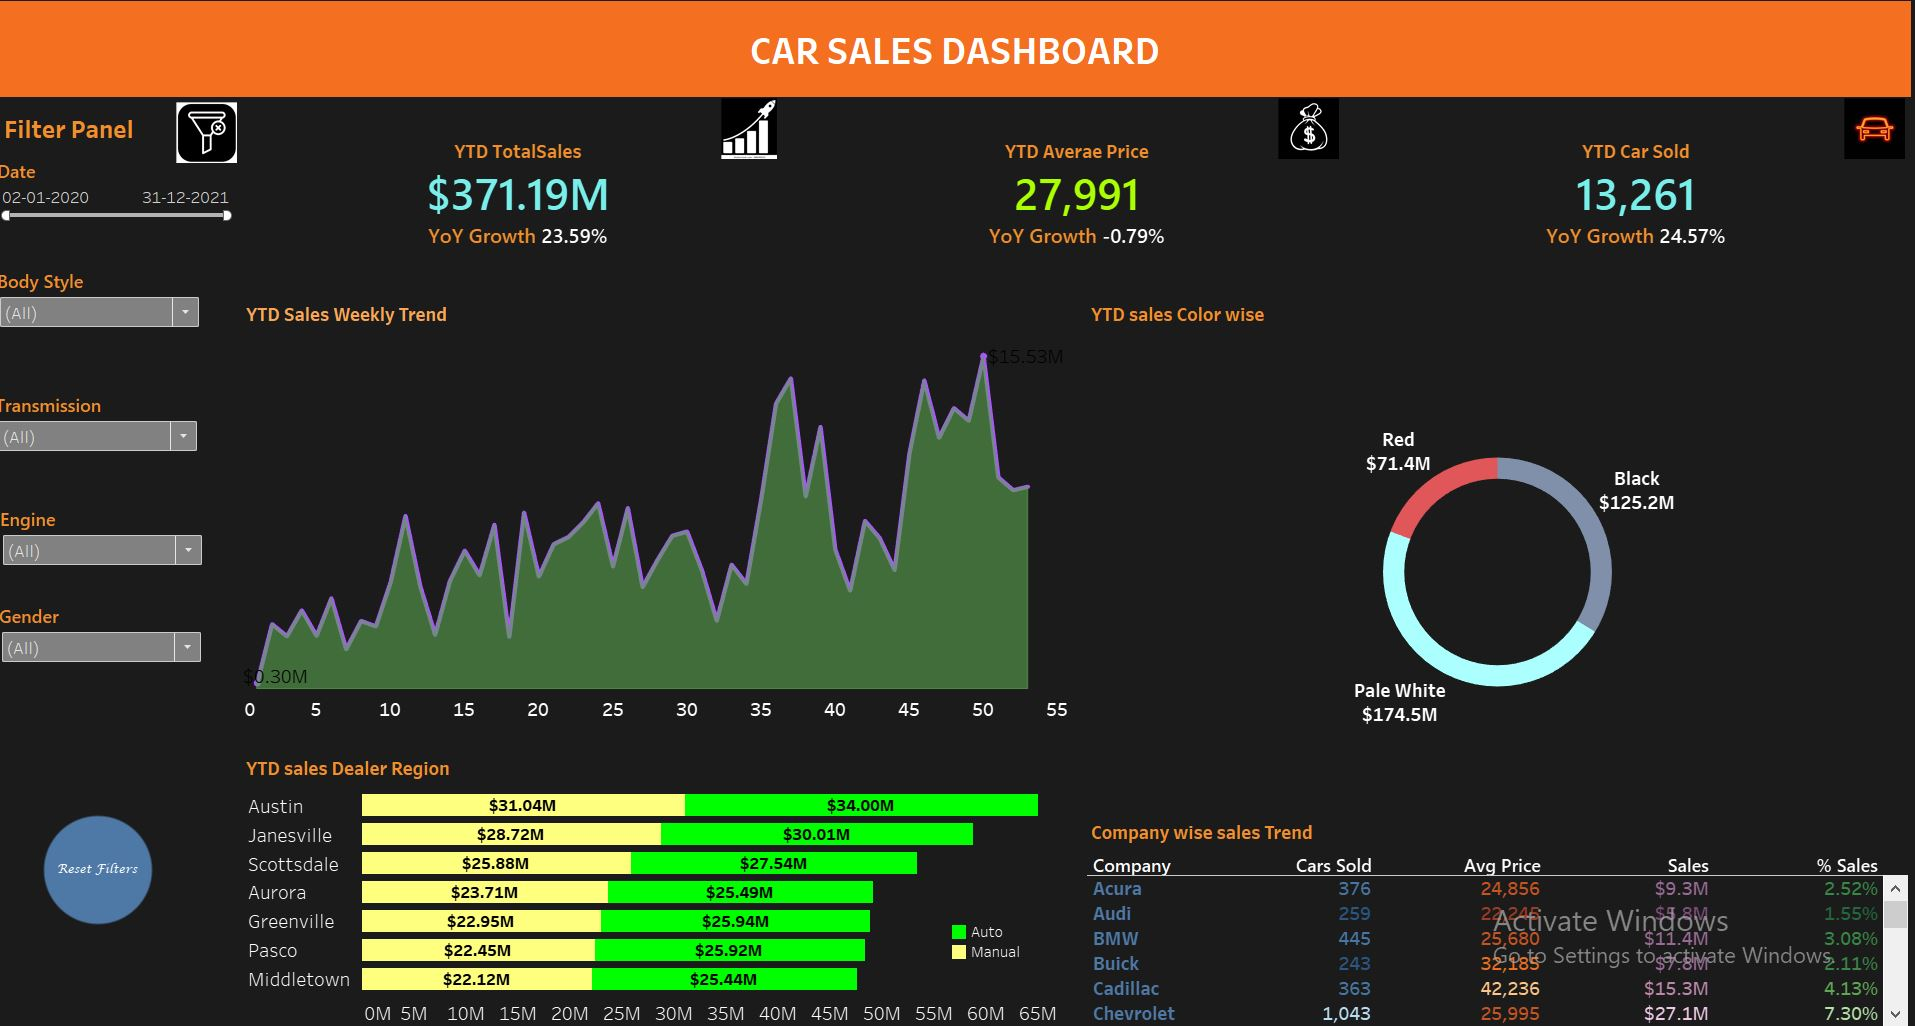

What the dashboard file says about the page in this screenshot:
{"tool":"tableau","page":{"name":"Dashboard 1","canvas":[1000,1000],"units":"permille","ordinal":0},"visuals":[{"type":"text","box":[0,0,1000,100]},{"type":"text","box":[2.5,97.8,106.6,58.7]},{"type":"image","param":"Image/sales.png","box":[374.1,97.8,38,58.7]},{"type":"image","param":"Image/dolloar.png","box":[665.2,97.8,38,58.7]},{"type":"image","param":"Image/cars.jfif","box":[960.1,97.8,38,58.7]},{"type":"image","param":"Image/clear filter.png","box":[91,101.5,38,58.7]},{"type":"worksheet","title":"YTD Total Sales","mark":"Automatic","box":[126.6,102.7,291.2,174.8]},{"type":"worksheet","title":"YTD Average Price","mark":"Automatic","box":[417.7,102.7,291.1,174.8]},{"type":"worksheet","title":"YTD Car Sold","mark":"Automatic","box":[708.9,102.7,291.2,174.8]},{"type":"filter","title":"YTD Sales Weekly Trend","param":"[federated.1vpl6i60fvlbpr1eajr350wn3azs].[none:Date:qk]","box":[1.2,156.5,124.7,100.2]},{"type":"filter","title":"YTD Sales Weekly Trend","param":"[federated.1vpl6i60fvlbpr1eajr350wn3azs].[none:Body Style:nk]","box":[1.2,262.8,106.6,100.2]},{"type":"worksheet","title":"YTD Sales Weekly Trend","mark":"Area","rows":["Calculation_147492904915472384","Calculation_147492904915472384"],"cols":["Date"],"box":[126.7,285.7,436.7,366.7]},{"type":"worksheet","title":"YTD sales Color wise","mark":"Pie","rows":["Calculation_42784213867347969","Calculation_42784213867347969"],"box":[566.7,285.7,432,444.1]},{"type":"filter","title":"YTD Sales Weekly Trend","param":"[federated.1vpl6i60fvlbpr1eajr350wn3azs].[none:Transmission:nk]","box":[0,382.6,106.6,99]},{"type":"filter","title":"YTD Sales Weekly Trend","param":"[federated.1vpl6i60fvlbpr1eajr350wn3azs].[none:Engine:nk]","box":[2.5,492.7,106.6,100.2]},{"type":"filter","title":"YTD Sales Weekly Trend","param":"[federated.1vpl6i60fvlbpr1eajr350wn3azs].[none:Gender:nk]","box":[1.9,586.8,106.6,100.2]},{"type":"worksheet","title":"YTD sales Dealer Region","mark":"Automatic","rows":["Dealer_Region"],"cols":["Calculation_147492904915472384"],"box":[126.7,652.4,436.7,344.7]},{"type":"worksheet","title":"Company wise sales Trend","mark":"Automatic","rows":["Company"],"box":[566.7,729.8,432,270.2]},{"type":"worksheet","title":"Reset Filter","mark":"Circle","box":[7.5,787.3,92.3,111.2]},{"type":"legend","title":"YTD sales Dealer Region","param":"[federated.1vpl6i60fvlbpr1eajr350wn3azs].[none:Transmission:nk]","box":[496.9,893.6,47.4,62.4]}]}

Visuals, with their boxes on the dashboard's canvas, which has no fixed pixel size, in thousandths of its width and height (x1, y1, x2, y2). These are canvas units, not pixel positions in the 1915x1026 screenshot, which may show the page scaled, cropped or inside an application window:
text: box=[0, 0, 1000, 100]
text: box=[2, 98, 109, 156]
image: box=[374, 98, 412, 156]
image: box=[665, 98, 703, 156]
image: box=[960, 98, 998, 156]
image: box=[91, 102, 129, 160]
"YTD Total Sales" worksheet: box=[127, 103, 418, 278]
"YTD Average Price" worksheet: box=[418, 103, 709, 278]
"YTD Car Sold" worksheet: box=[709, 103, 1000, 278]
"YTD Sales Weekly Trend" filter: box=[1, 156, 126, 257]
"YTD Sales Weekly Trend" filter: box=[1, 263, 108, 363]
"YTD Sales Weekly Trend" worksheet (Area marks): box=[127, 286, 563, 652]
"YTD sales Color wise" worksheet (Pie marks): box=[567, 286, 999, 730]
"YTD Sales Weekly Trend" filter: box=[0, 383, 107, 482]
"YTD Sales Weekly Trend" filter: box=[2, 493, 109, 593]
"YTD Sales Weekly Trend" filter: box=[2, 587, 108, 687]
"YTD sales Dealer Region" worksheet: box=[127, 652, 563, 997]
"Company wise sales Trend" worksheet: box=[567, 730, 999, 1000]
"Reset Filter" worksheet (Circle marks): box=[8, 787, 100, 898]
"YTD sales Dealer Region" legend: box=[497, 894, 544, 956]
